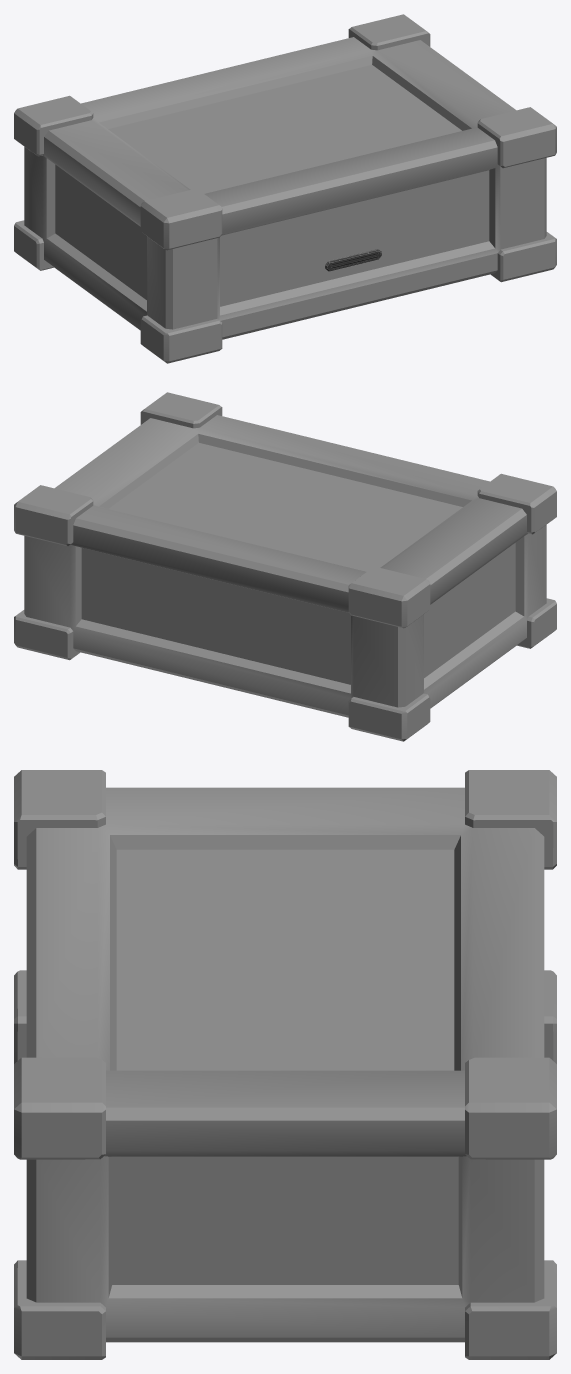
File: ammobox.FBX
3 renders of one model, top to bottom at view 1: azimuth 30°, elevation 25°; view 2: azimuth 150°, elevation 25°; view 3: azimuth 270°, elevation 25°, orthographic. The views are drawn at different scales.
Visible parts, largest first — view 1: BoxLid, BoxBottom, Latch; view 2: BoxLid, BoxBottom; view 3: BoxLid, BoxBottom.
Part boxes in pixels (bbox=[...]): BoxLid: bbox=[14, 14, 556, 320]; BoxBottom: bbox=[14, 147, 556, 363]; Latch: bbox=[325, 249, 381, 271]; BoxLid: bbox=[14, 392, 556, 628]; BoxBottom: bbox=[14, 525, 556, 741]; BoxLid: bbox=[14, 770, 556, 1159]; BoxBottom: bbox=[14, 970, 556, 1359].
Size of the model in its own units: 61.94 by 21.94 by 41.94.
